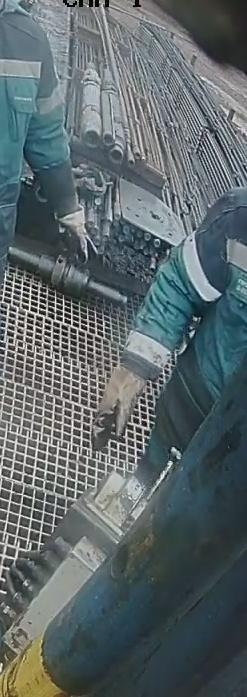gloves: (90, 365, 148, 448), (54, 202, 100, 264)
vest: (145, 184, 247, 425), (0, 0, 77, 230)
